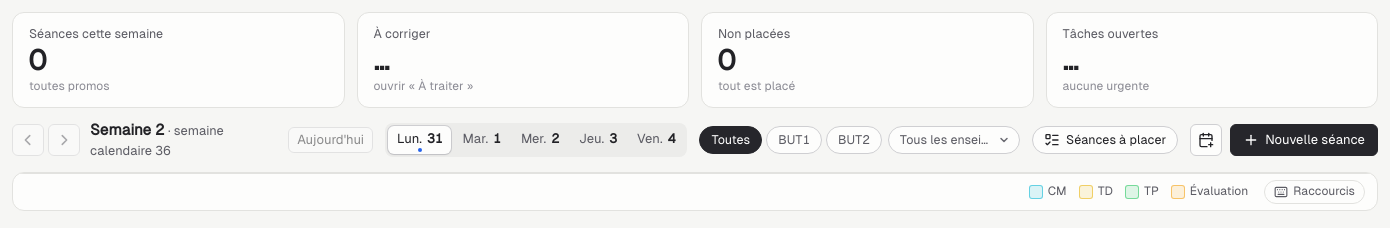
Test case: PromoView à-placer sous filtre différent › should place the missing session on click even when the year filter still points at another year
This screenshot has width=1390, height=228.
Later steps or results of the test are not shown.
Click the button "BUT1" at (794, 140), box [766,126,822,154]
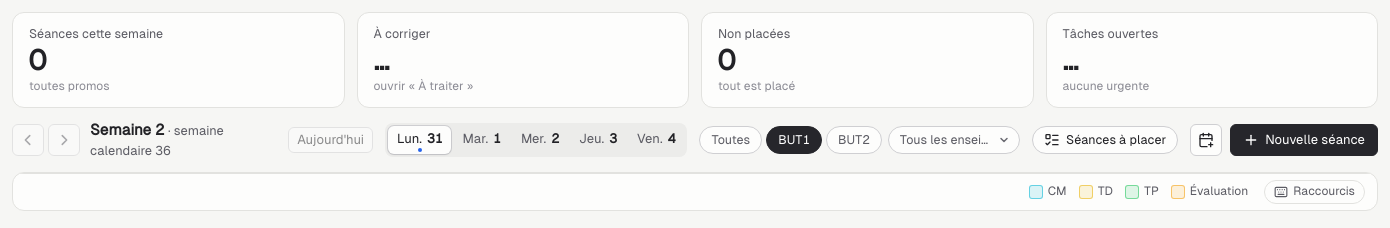
Now the button "BUT1" is pressed, box [766,126,822,154]
